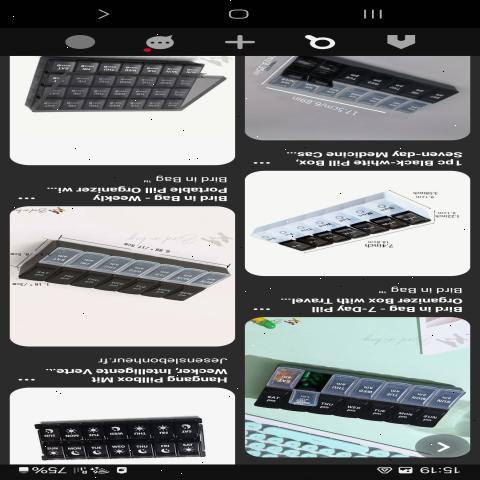PillBox: (17, 227, 224, 312), (247, 178, 449, 260), (250, 357, 466, 433), (246, 58, 456, 119), (18, 415, 222, 461)
